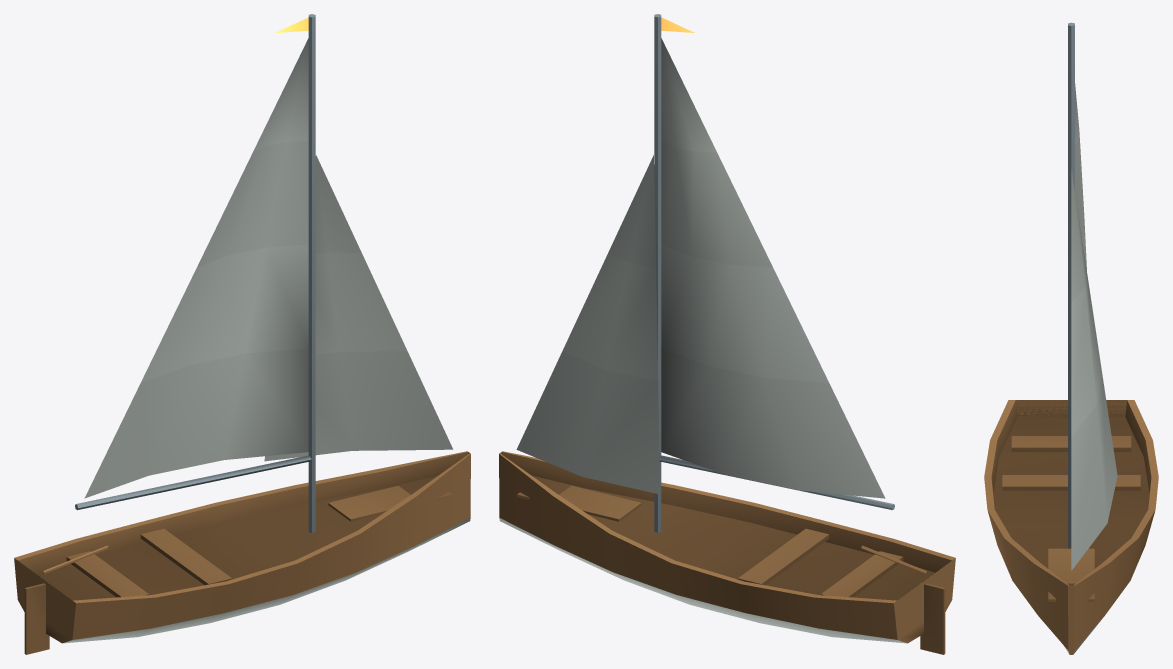
File: sail-skiff.lod1.glb
3 views of the same model, side by side, from view 1: azimuth 30°, elevation 25°; view 2: azimuth 150°, elevation 25°; view 3: azimuth 270°, elevation 25° (orthographic).
Parts seen in each view (by area): view 1: structure, rig; view 2: structure, rig; view 3: structure, rig.
Part boxes in pixels (left/top/right/bottom): structure: left=14, top=14, right=470, bottom=654; rig: left=75, top=38, right=311, bottom=510; structure: left=499, top=14, right=955, bottom=654; rig: left=659, top=38, right=894, bottom=510; structure: left=984, top=22, right=1158, bottom=654; rig: left=1075, top=84, right=1086, bottom=270.
Size of the model in its own units: 5.65 by 6.92 by 1.89.
